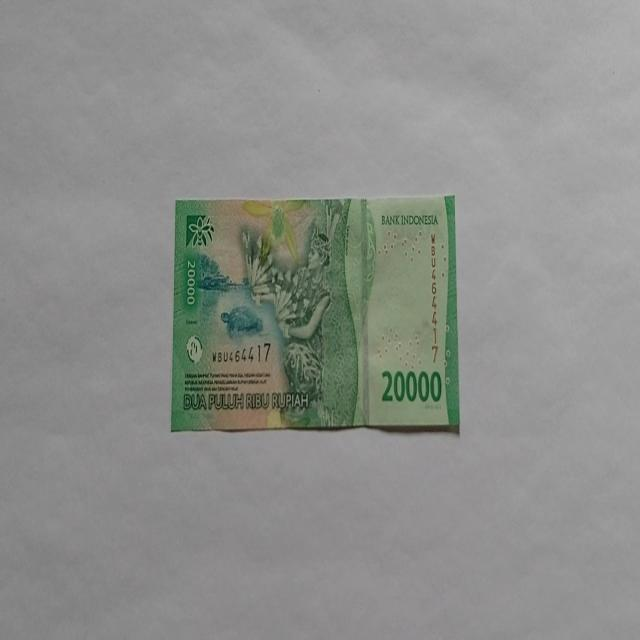dua puluh ribu rupiah: (170, 193, 460, 434), (239, 198, 374, 428)
